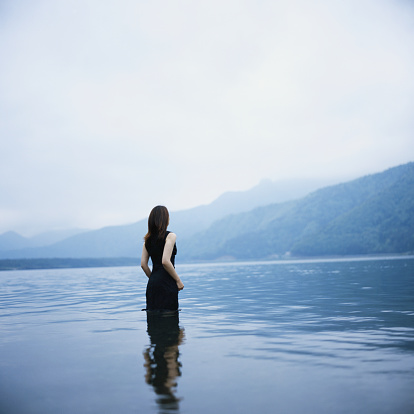em pe: (140, 201, 177, 353)
